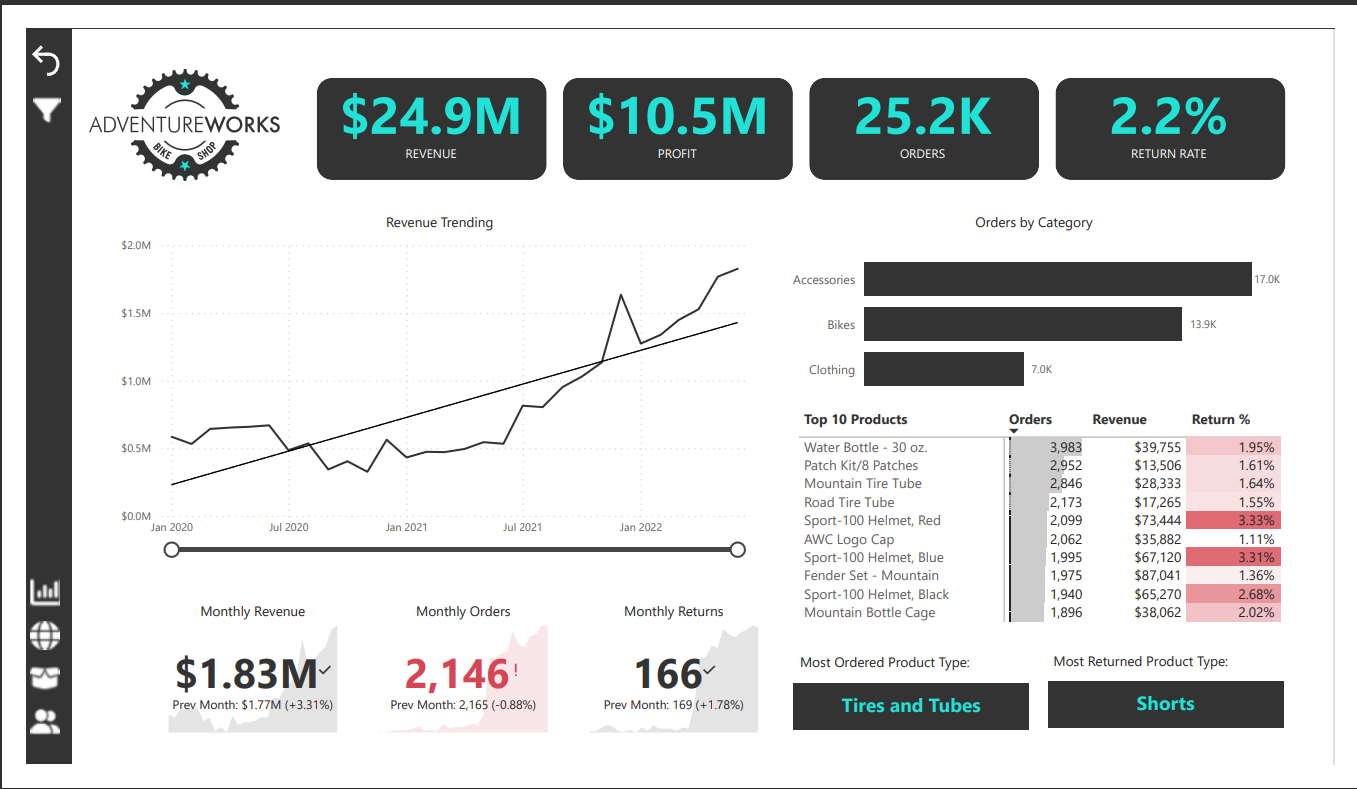

Layout of this report page (visuals, bound fields, positions):
{"tool":"powerbi","page":{"name":"Exec Dashboard","canvas":[1280,720],"ordinal":0},"visuals":[{"type":"image","title":"AW Logo","box":[37.2,23.3,237.3,141.1],"z":0},{"type":"card","fields":{"Values":["Measure Table.Total Profit"]},"box":[522.9,32,230,115],"z":0,"group":"g1"},{"type":"actionButton","box":[1.4,534.5,45.3,35.7],"z":0,"group":"g2"},{"type":"card","fields":{"Values":["Measure Table.Total Revenue"]},"box":[282.3,32,230,115],"z":1000,"group":"g1"},{"type":"shape","box":[284.7,47.5,225,100],"z":1000},{"type":"actionButton","box":[1.4,576.6,45.3,35.7],"z":1000,"group":"g2"},{"type":"shape","title":"Left Nav Background","box":[0,0,45,720],"z":2000},{"type":"card","fields":{"Values":["Measure Table.Total Orders"]},"box":[763.5,32,230,115],"z":2000,"group":"g1"},{"type":"actionButton","box":[1.4,618.6,45.3,35.7],"z":2000,"group":"g2"},{"type":"card","fields":{"Values":["Measure Table.Return Rate"]},"box":[1004.1,32,230,115],"z":3000,"group":"g1"},{"type":"shape","box":[525.9,47.5,225,100],"z":3000},{"type":"actionButton","box":[1.4,660.7,45.3,35.7],"z":3000,"group":"g2"},{"type":"shape","box":[767,47.5,225,100],"z":4000},{"type":"shape","box":[1008.1,47.5,225,100],"z":5000},{"type":"group","id":"g1","title":"KPI Values","box":[282.3,32,951.8,115],"z":6000},{"type":"lineChart","title":"Revenue Trending","fields":{"Y":["Measure Table.Total Revenue"],"Category":["Calendar Lookup.Year","Calendar Lookup.Start of Quarter","Calendar Lookup.Start of Month"]},"box":[88.4,179.9,634.3,341.2],"z":7000},{"type":"kpi","title":"Monthly Revenue","fields":{"Indicator":["Measure Table.Total Revenue"],"TrendLine":["Calendar Lookup.Start of Month"],"Goal":["Measure Table.Previous Month Revenue"]},"box":[134.9,561,175,133.3],"z":8000},{"type":"kpi","title":"Monthly Orders","fields":{"TrendLine":["Calendar Lookup.Start of Month"],"Indicator":["Measure Table.Total Orders"],"Goal":["Measure Table.Previous Month Orders"]},"box":[340.7,561,175,133.3],"z":9000},{"type":"kpi","title":"Monthly Returns","fields":{"TrendLine":["Calendar Lookup.Start of Month"],"Indicator":["Measure Table.Total Return"],"Goal":["Measure Table.Previous Month Returns"]},"box":[546.6,561,175,133.3],"z":10000},{"type":"clusteredBarChart","title":"Orders by Category","fields":{"Category":["Product Categories Lookup.CategoryName"],"Y":["Measure Table.Total Orders"]},"box":[741.3,179.9,491.6,193.9],"z":11000},{"type":"pivotTable","fields":{"Rows":["Product Lookup.ProductName"],"Values":["Measure Table.Total Orders","Measure Table.Total Revenue","Measure Table.Return Rate"]},"box":[752.2,367.6,482.3,220.2],"z":12000},{"type":"card","fields":{"Values":["Min(Product Subcategories Lookup.SubcategoryName)"]},"box":[752.2,640.5,229.5,46],"z":13000},{"type":"textbox","box":[752.9,606.2,176.9,31.5],"z":14000},{"type":"card","fields":{"Values":["Min(Product Subcategories Lookup.SubcategoryName)"]},"box":[1001,639.1,229.5,46],"z":15000},{"type":"textbox","box":[1001.1,604.8,181,31.5],"z":16000},{"type":"actionButton","box":[0,11,45.3,39.8],"z":17000},{"type":"group","id":"g2","title":"Navigation button","box":[1.4,534.5,45.3,161.8],"z":18000},{"type":"actionButton","box":[4.1,63.1,46.6,34.3],"z":19000},{"type":"actionButton","box":[164.6,0,37,31.5],"z":21000}]}

Visuals, with their boxes on the page's 1280x720 design canvas (x1, y1, x2, y2). These are canvas units, not pixel positions in the 1357x789 screenshot, which may show the page scaled, cropped or inside an application window:
"AW Logo" image: l=37, t=23, r=274, b=164
card - Measure Table.Total Profit: l=523, t=32, r=753, b=147
actionButton: l=1, t=534, r=47, b=570
card - Measure Table.Total Revenue: l=282, t=32, r=512, b=147
shape: l=285, t=48, r=510, b=148
actionButton: l=1, t=577, r=47, b=612
"Left Nav Background" shape: l=0, t=0, r=45, b=720
card - Measure Table.Total Orders: l=764, t=32, r=994, b=147
actionButton: l=1, t=619, r=47, b=654
card - Measure Table.Return Rate: l=1004, t=32, r=1234, b=147
shape: l=526, t=48, r=751, b=148
actionButton: l=1, t=661, r=47, b=696
shape: l=767, t=48, r=992, b=148
shape: l=1008, t=48, r=1233, b=148
"KPI Values" group: l=282, t=32, r=1234, b=147
"Revenue Trending" lineChart: l=88, t=180, r=723, b=521
"Monthly Revenue" kpi: l=135, t=561, r=310, b=694
"Monthly Orders" kpi: l=341, t=561, r=516, b=694
"Monthly Returns" kpi: l=547, t=561, r=722, b=694
"Orders by Category" clusteredBarChart: l=741, t=180, r=1233, b=374
pivotTable - Product Lookup.ProductName x Measure Table.Total Orders: l=752, t=368, r=1234, b=588
card - Min(Product Subcategories Lookup.SubcategoryName): l=752, t=640, r=982, b=686
textbox: l=753, t=606, r=930, b=638
card - Min(Product Subcategories Lookup.SubcategoryName): l=1001, t=639, r=1230, b=685
textbox: l=1001, t=605, r=1182, b=636
actionButton: l=0, t=11, r=45, b=51
"Navigation button" group: l=1, t=534, r=47, b=696
actionButton: l=4, t=63, r=51, b=97
actionButton: l=165, t=0, r=202, b=32
